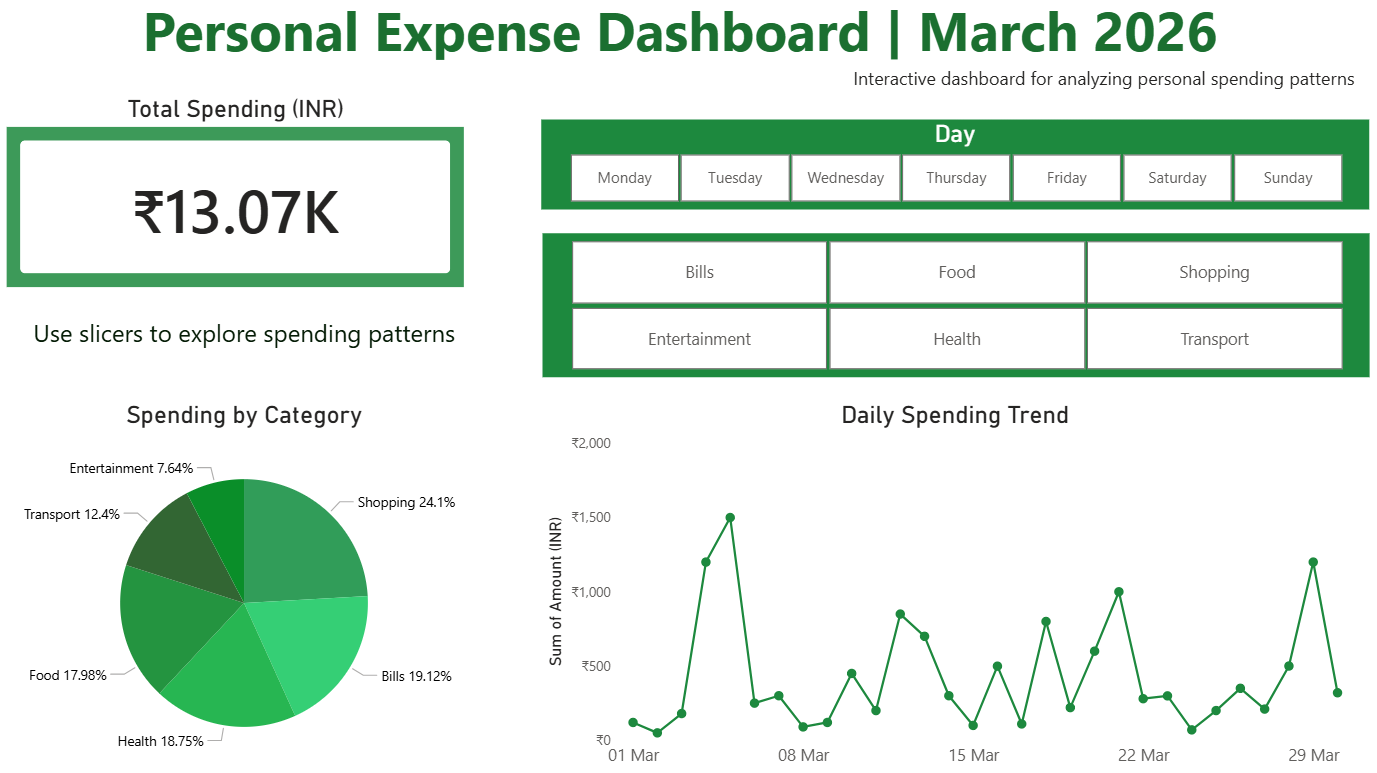

The page's visual inventory and layout, read from the dashboard file:
{"tool":"powerbi","page":{"name":"Page 1","canvas":[1280,720],"ordinal":0},"visuals":[{"type":"pieChart","title":"Spending by Category","fields":{"Category":["Raw_Data.Category"],"Y":["Sum(Raw_Data.Amount (INR))"]},"box":[32,368,432,336],"z":0},{"type":"lineChart","title":"Daily Spending Trend","fields":{"Y":["Sum(Raw_Data.Amount (INR))"],"Category":["Raw_Data.Date"]},"box":[512.5,368,736,336],"z":1000},{"type":"textbox","box":[0,0,1280,69.7],"z":2000},{"type":"textbox","box":[32,288,432,48],"z":3000},{"type":"slicer","title":"Category","fields":{"Values":["Raw_Data.Category"]},"box":[513.5,218.7,735,128],"z":4000},{"type":"cardVisual","title":"Total Spending (INR)","fields":{"Data":["Sum(Raw_Data.Amount (INR))"]},"box":[32,96,416,176],"z":5000},{"type":"slicer","title":"Day","fields":{"Values":["Raw_Data.Day"]},"box":[512.5,117.3,736,80],"z":6000},{"type":"textbox","box":[784,64,464,32],"z":6001}]}

Visuals, with their boxes in screenshot pixels (x1, y1, x2, y2), scaled from the page's 1280x720 canvas onto the 1377x773 screenshot:
"Spending by Category" pieChart: 34:395:499:756
"Daily Spending Trend" lineChart: 551:395:1343:756
textbox: 0:0:1376:75
textbox: 34:309:499:361
"Category" slicer: 552:235:1343:372
"Total Spending (INR)" cardVisual: 34:103:482:292
"Day" slicer: 551:126:1343:212
textbox: 843:69:1343:103
